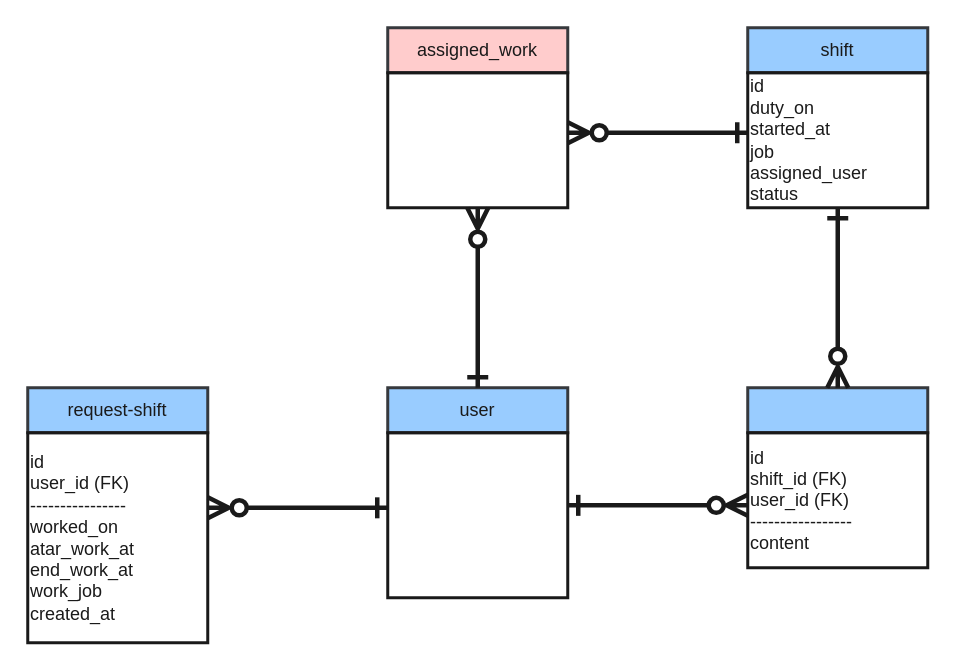
The diagram is 954 pixels wide and 669 high, and some of its shapes have lost their labels. The centre of each missing label's shape, as x and y in pixels:
"comment" goes at (837,410).
"id name password email number admin" goes at (477,514).
"id user_id shift_id assigned_time" goes at (477,139).
